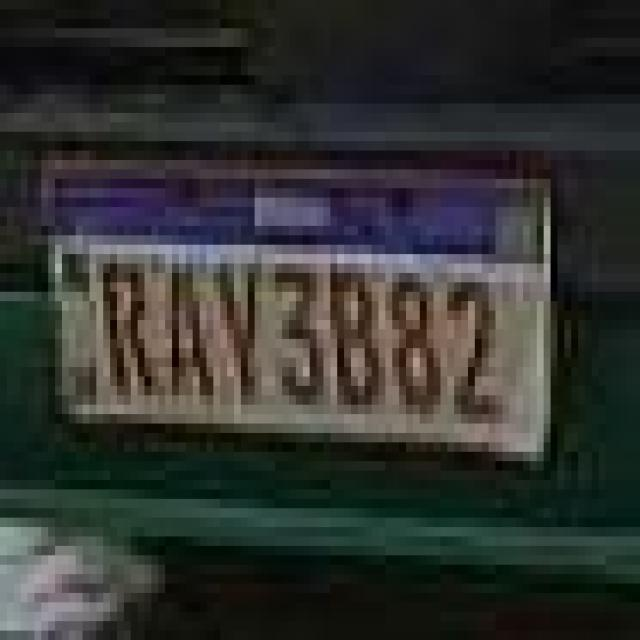3: (267, 257, 325, 412)
8: (385, 262, 446, 420)
A: (161, 248, 210, 408)
B: (328, 256, 389, 414)
R: (96, 244, 156, 401)
Y: (215, 255, 264, 406)
